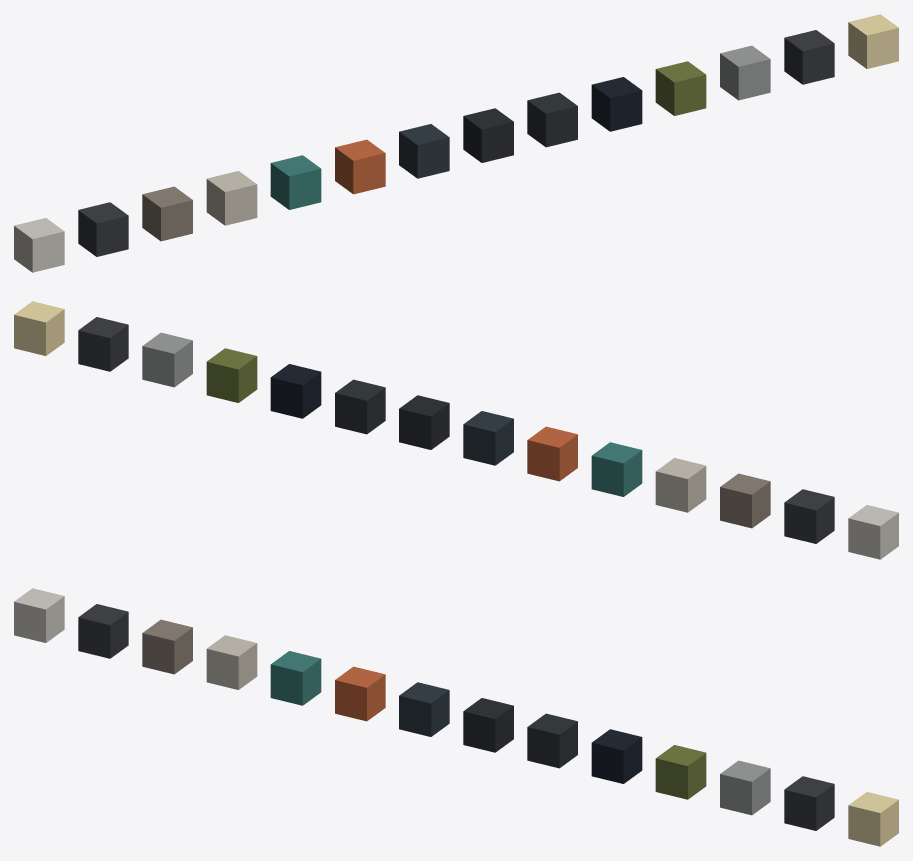
The model's file is perimeter.glb.
3 renders of one model, top to bottom at view 1: azimuth 30°, elevation 25°; view 2: azimuth 150°, elevation 25°; view 3: azimuth 330°, elevation 25°, orthographic.
Parts seen in each view (by area): view 1: perimeter; view 2: perimeter; view 3: perimeter.
Part boxes in pixels (left/top/right/bottom): perimeter: left=14, top=14, right=898, bottom=272; perimeter: left=14, top=301, right=898, bottom=559; perimeter: left=14, top=588, right=898, bottom=846.
Size of the model in its own units: 27 by 1 by 1.
